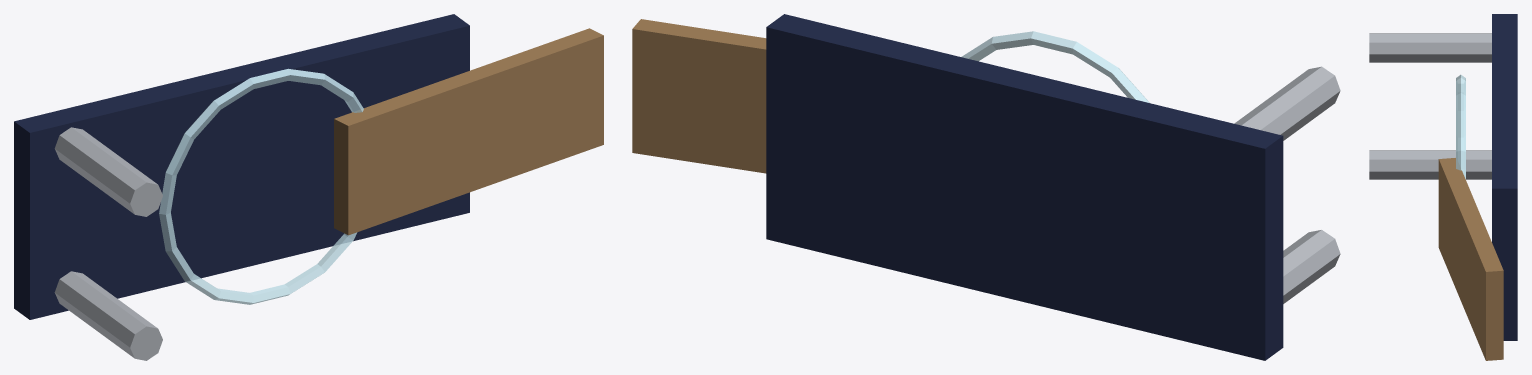
Rendered from 10_skyship_dock.glb.
3 views of the same model, side by side, from view 1: azimuth 30°, elevation 25°; view 2: azimuth 150°, elevation 25°; view 3: azimuth 270°, elevation 25° (orthographic). The views are drawn at different scales.
Parts seen in each view (by area): view 1: dock_platform, boarding_ramp, dock_marker_ring, mooring_post_l, mooring_post_r; view 2: dock_platform, boarding_ramp, mooring_post_r, dock_marker_ring, mooring_post_l; view 3: boarding_ramp, dock_platform, mooring_post_r, mooring_post_l, dock_marker_ring.
Part boxes in pixels (box(x1,y1,x2,y2)): dock_platform: box(14, 14, 469, 319); boarding_ramp: box(334, 28, 603, 235); dock_marker_ring: box(159, 68, 363, 304); mooring_post_l: box(54, 271, 162, 360); mooring_post_r: box(54, 127, 162, 216); dock_platform: box(766, 14, 1283, 360); boarding_ramp: box(632, 19, 766, 173); mooring_post_r: box(1234, 66, 1340, 140); dock_marker_ring: box(961, 31, 1149, 102); mooring_post_l: box(1283, 230, 1340, 303); boarding_ramp: box(1438, 158, 1503, 360); dock_platform: box(1492, 14, 1517, 340); mooring_post_r: box(1369, 33, 1491, 62); mooring_post_l: box(1369, 150, 1491, 179); dock_marker_ring: box(1456, 74, 1465, 179).
Bounding box in the file's own units: 1.49 × 0.5672 × 0.414.
